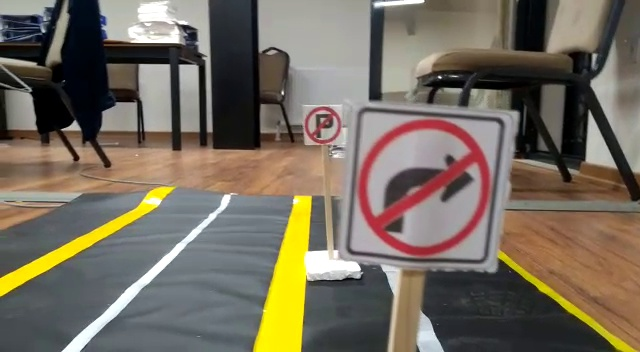park_yapilmaz: (303, 105, 342, 145)
saga_donulmez: (355, 119, 493, 258)
